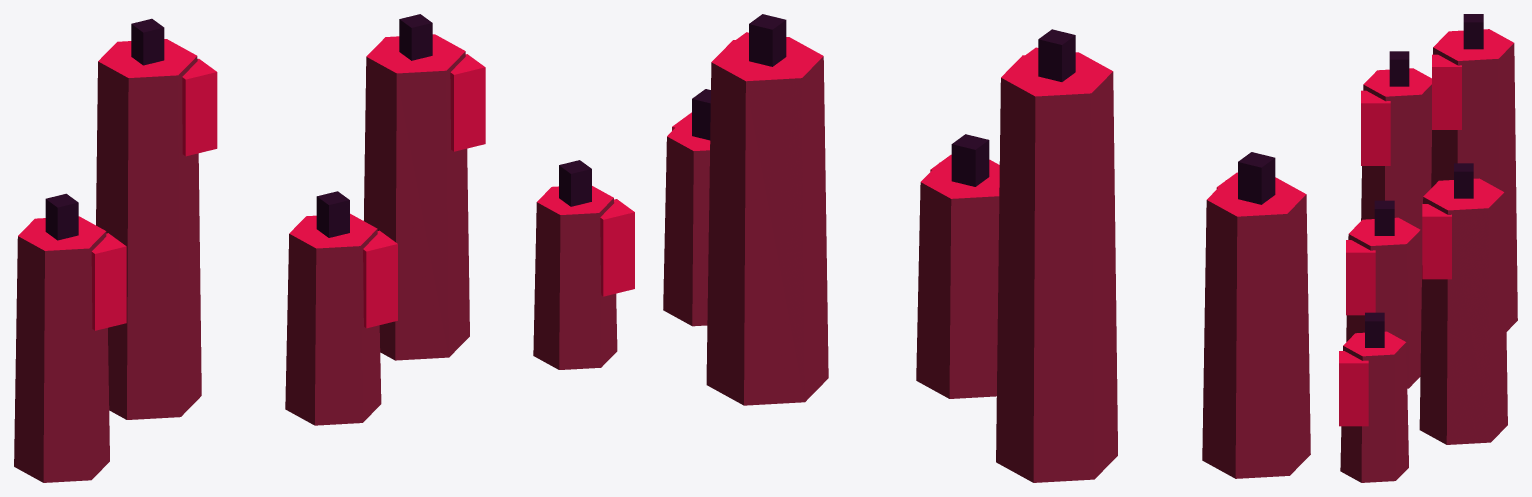
The model's file is candles0.glb.
The picture shows the model from 3 angles, left to right: view 1: azimuth 30°, elevation 25°; view 2: azimuth 150°, elevation 25°; view 3: azimuth 270°, elevation 25°; orthographic projection. The views are drawn at different scales.
Parts seen in each view (by area): view 1: Candles0; view 2: Candles0; view 3: Candles0.
Part boxes in pixels (x1,y1,x2,y2): Candles0: [14, 14, 634, 482]; Candles0: [663, 14, 1310, 482]; Candles0: [1339, 14, 1517, 482].
Size of the model in its own units: 1.1 by 0.68 by 0.3612.
